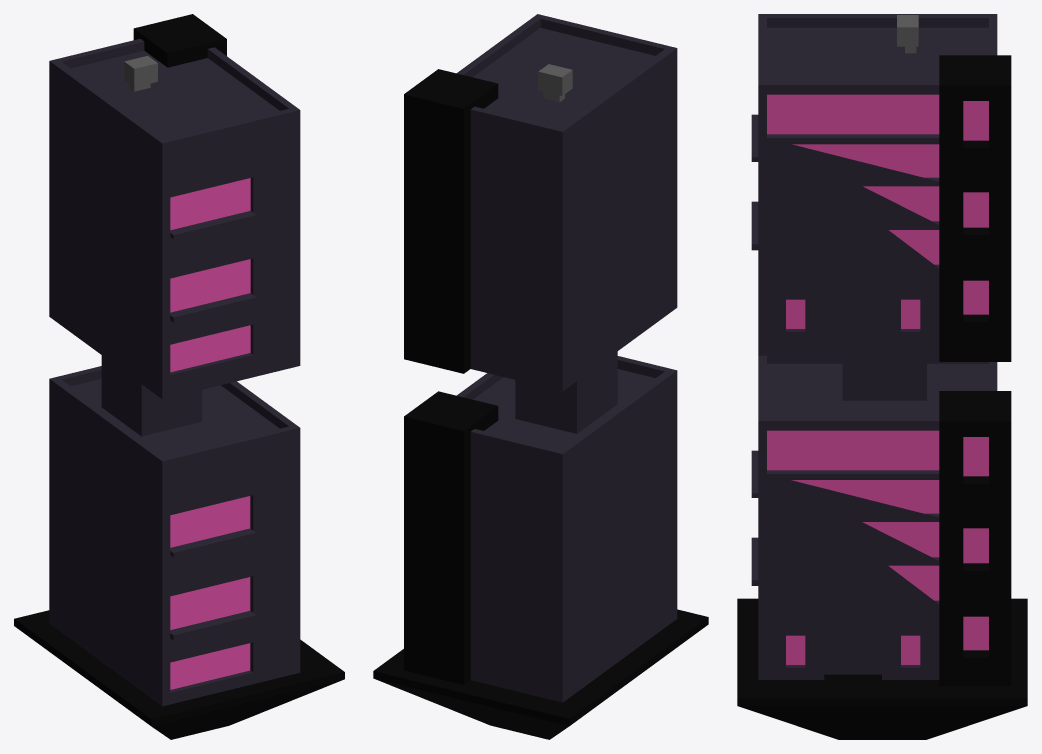
File: building2.fbx
3 views of the same model, side by side, from view 1: azimuth 30°, elevation 25°; view 2: azimuth 150°, elevation 25°; view 3: azimuth 270°, elevation 25° (orthographic). The views are drawn at different scales.
Visible parts, largest first — view 1: Cube.011; view 2: Cube.011; view 3: Cube.011.
Boxes of the visible parts, box(x1,y1,x2,y2) form: Cube.011: box(14, 14, 344, 739); Cube.011: box(373, 14, 708, 739); Cube.011: box(737, 14, 1027, 739).
Bounding box in the file's own units: 2977 × 9598 × 3658.
